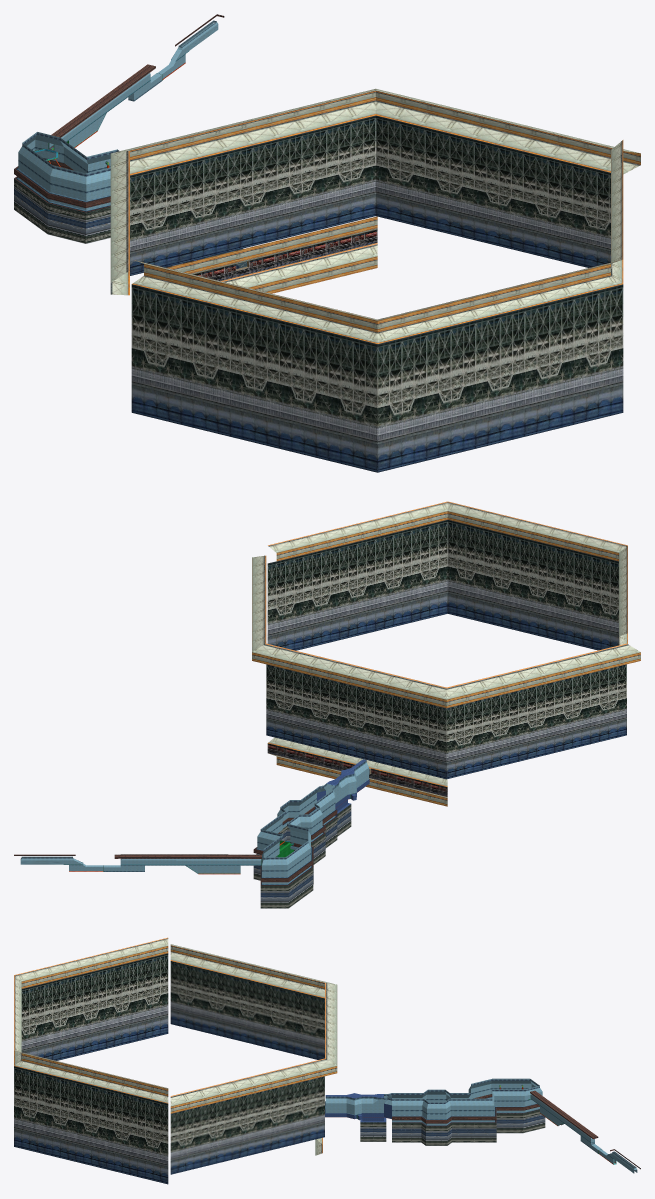
The picture shows the model from 3 angles, top to bottom: view 1: azimuth 30°, elevation 25°; view 2: azimuth 150°, elevation 25°; view 3: azimuth 270°, elevation 25°; orthographic projection. The views are drawn at different scales.
Visible parts, largest first — view 1: s03_on_04_1, s03_on_04_9, s03_on_04_4, s03_on_04_11, s03_on_04_5, s03_on_04_6, s03_on_04_3; view 2: s03_on_04_1, s03_on_04_9, s03_on_04_4, s03_on_04_11, s03_on_04_6, s03_on_04_5, s03_on_04_3, s03_on_04_0; view 3: s03_on_04_1, s03_on_04_9, s03_on_04_4, s03_on_04_3, s03_on_04_6, s03_on_04_5, s03_on_04_0.
Boxes of the visible parts, x1,y1,x2,y2 form: s03_on_04_1: (14,115,623,472); s03_on_04_9: (110,88,640,343); s03_on_04_4: (18,21,246,267); s03_on_04_11: (193,229,377,281); s03_on_04_5: (14,14,224,208); s03_on_04_6: (14,20,216,212); s03_on_04_3: (17,54,246,266); s03_on_04_1: (253,520,626,908); s03_on_04_9: (252,501,640,806); s03_on_04_4: (20,762,368,883); s03_on_04_11: (267,743,447,796); s03_on_04_6: (21,784,336,885); s03_on_04_5: (14,806,337,882); s03_on_04_3: (69,760,369,884); s03_on_04_0: (277,759,369,857); s03_on_04_1: (14,953,545,1184); s03_on_04_9: (14,937,337,1155); s03_on_04_4: (325,1080,637,1173); s03_on_04_3: (325,1088,612,1158); s03_on_04_6: (384,1078,636,1168); s03_on_04_5: (392,1090,640,1169); s03_on_04_0: (325,1093,391,1122).
Size of the model in its own units: 8865 by 3302 by 14448.
